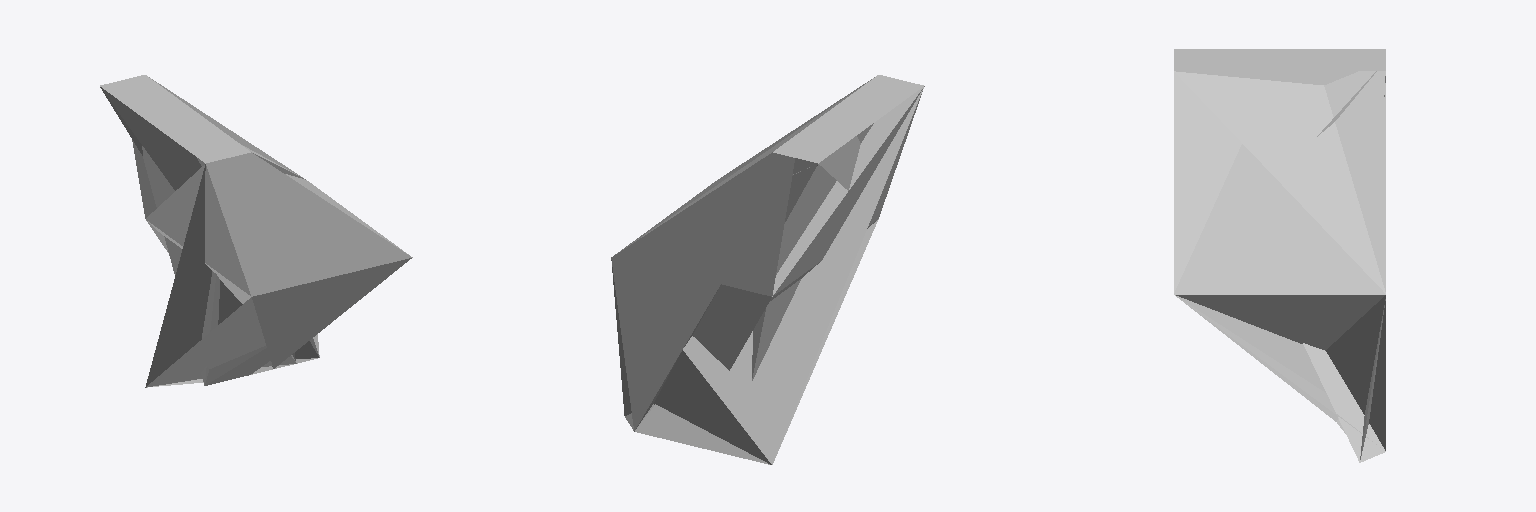
The model's file is Security Chair.obj.
3 views of the same model, side by side, from view 1: azimuth 30°, elevation 25°; view 2: azimuth 150°, elevation 25°; view 3: azimuth 270°, elevation 25° (orthographic).
Bounding box in the file's own units: 9 × 13 × 8.